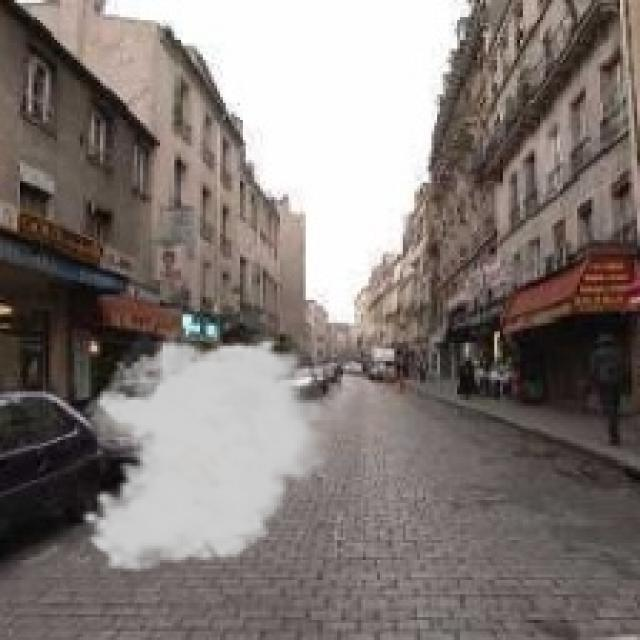Smoke: (80, 323, 337, 574)
